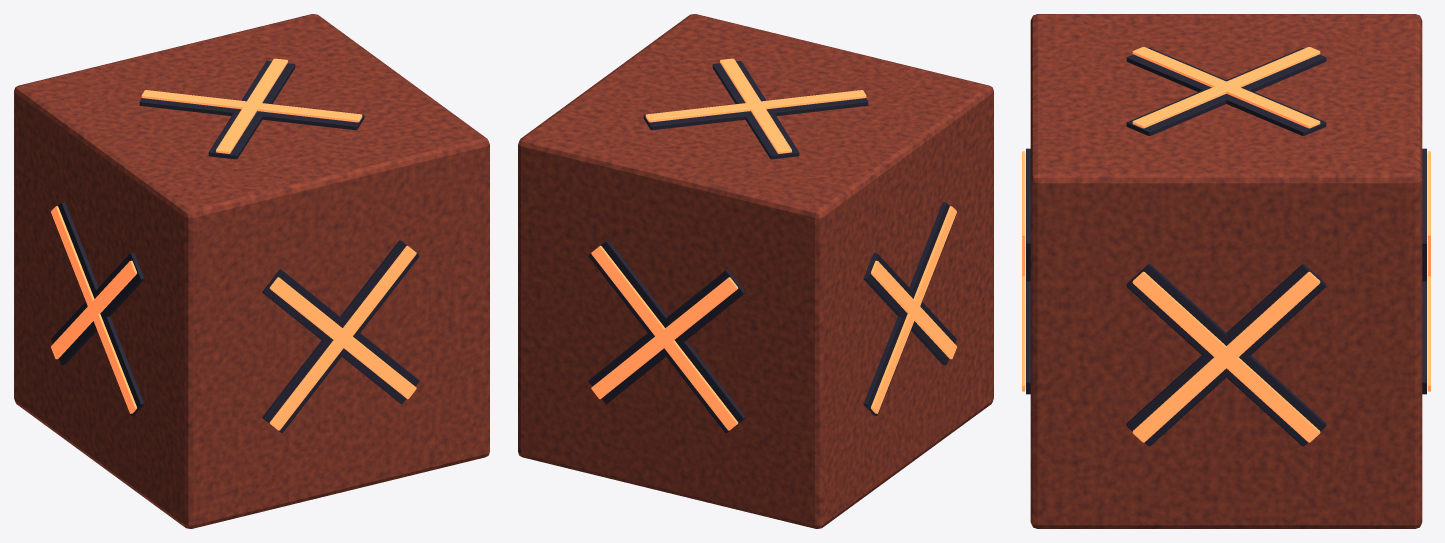
Rendered from block-fire.glb.
3 renders of one model, left to right at view 1: azimuth 30°, elevation 25°; view 2: azimuth 150°, elevation 25°; view 3: azimuth 270°, elevation 25°, orthographic. The views are drawn at different scales.
Parts seen in each view (by area): view 1: kiln-core, fire-X-emissive.010, fire-X-recess.010, fire-X-emissive.011, fire-X-recess.011, fire-X-emissive.006, fire-X-recess.006, fire-X-emissive.001, fire-X-recess.001, fire-X-recess.007, fire-X-emissive.007, fire-X-recess (+1 smaller); view 2: kiln-core, fire-X-emissive.009, fire-X-recess.009, fire-X-recess.008, fire-X-emissive.008, fire-X-emissive.007, fire-X-emissive, fire-X-recess.007, fire-X-recess, fire-X-recess.006, fire-X-emissive.006, fire-X-recess.001 (+1 smaller); view 3: kiln-core, fire-X-emissive.005, fire-X-emissive.004, fire-X-recess.004, fire-X-recess.005, fire-X-emissive.001, fire-X-emissive, fire-X-recess, fire-X-recess.001, fire-X-recess.008, fire-X-recess.011, fire-X-emissive.008 (+1 smaller).
Part boxes in pixels (bbox=[...]): kiln-core: bbox=[14, 14, 489, 528]; fire-X-emissive.010: bbox=[269, 245, 416, 430]; fire-X-recess.010: bbox=[262, 240, 419, 432]; fire-X-emissive.011: bbox=[269, 277, 416, 399]; fire-X-recess.011: bbox=[262, 269, 419, 403]; fire-X-emissive.006: bbox=[51, 206, 136, 413]; fire-X-recess.006: bbox=[51, 202, 144, 415]; fire-X-emissive.001: bbox=[141, 90, 362, 122]; fire-X-recess.001: bbox=[139, 90, 364, 130]; fire-X-recess.007: bbox=[51, 252, 144, 365]; fire-X-emissive.007: bbox=[51, 260, 136, 359]; fire-X-recess: bbox=[208, 61, 295, 159]; kiln-core: bbox=[518, 14, 993, 528]; fire-X-emissive.009: bbox=[591, 245, 738, 430]; fire-X-recess.009: bbox=[588, 240, 745, 432]; fire-X-recess.008: bbox=[588, 269, 745, 403]; fire-X-emissive.008: bbox=[591, 277, 738, 399]; fire-X-emissive.007: bbox=[871, 206, 956, 413]; fire-X-emissive: bbox=[645, 90, 866, 122]; fire-X-recess.007: bbox=[863, 202, 956, 415]; fire-X-recess: bbox=[643, 90, 868, 130]; fire-X-recess.006: bbox=[863, 252, 956, 365]; fire-X-emissive.006: bbox=[871, 260, 956, 359]; fire-X-recess.001: bbox=[712, 61, 799, 159]; kiln-core: bbox=[1030, 14, 1422, 528]; fire-X-emissive.005: bbox=[1132, 271, 1320, 442]; fire-X-emissive.004: bbox=[1132, 271, 1320, 442]; fire-X-recess.004: bbox=[1126, 264, 1326, 446]; fire-X-recess.005: bbox=[1126, 264, 1326, 446]; fire-X-emissive.001: bbox=[1132, 47, 1320, 128]; fire-X-emissive: bbox=[1132, 47, 1320, 128]; fire-X-recess: bbox=[1126, 48, 1326, 135]; fire-X-recess.001: bbox=[1126, 48, 1326, 135]; fire-X-recess.008: bbox=[1422, 148, 1426, 394]; fire-X-recess.011: bbox=[1026, 148, 1030, 394]; fire-X-emissive.008: bbox=[1427, 151, 1430, 391].
Bounding box in the file's own units: 1.04 × 1.04 × 1.04.
3 materials, 1 textured.
